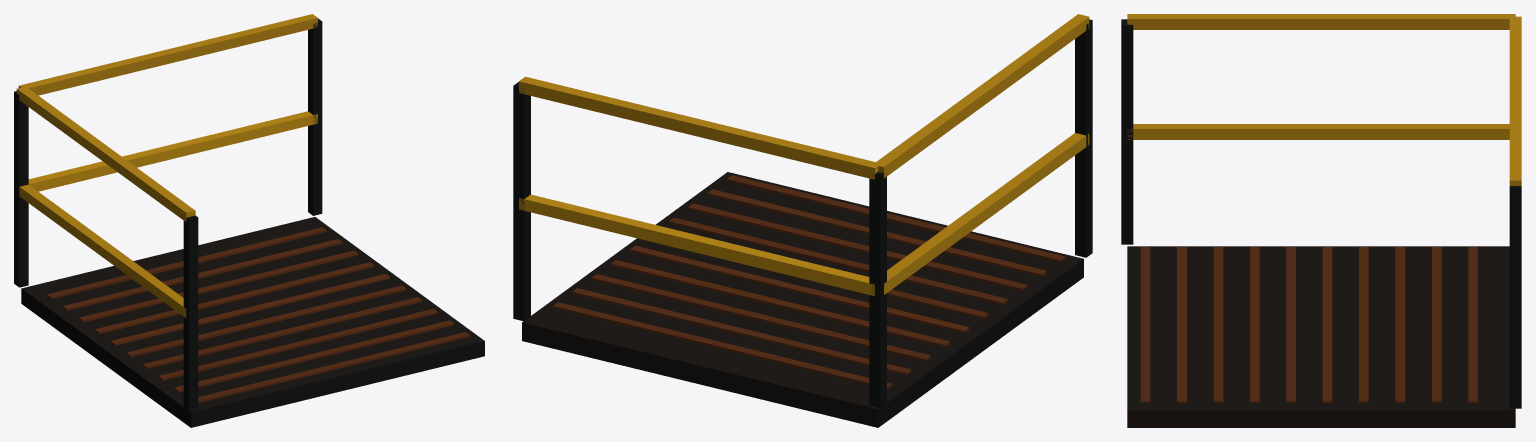
The model's file is kit_catwalk_corner.glb.
3 views of the same model, side by side, from view 1: azimuth 30°, elevation 25°; view 2: azimuth 150°, elevation 25°; view 3: azimuth 270°, elevation 25° (orthographic). The views are drawn at different scales.
Visible parts, largest first — view 1: Mesh; view 2: Mesh; view 3: Mesh.
Part boxes in pixels (<box>): Mesh: <box>14,14,484,427</box>; Mesh: <box>513,14,1092,427</box>; Mesh: <box>1121,14,1521,427</box>.
Size of the model in its own units: 1.65 by 1.12 by 1.65.
